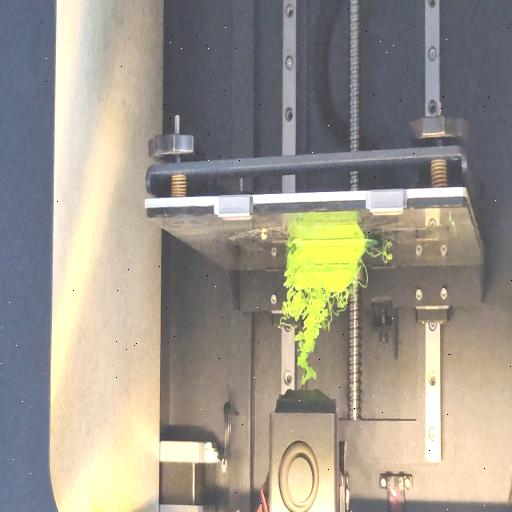spaghetti: (282, 283, 350, 385), (282, 232, 297, 283), (368, 244, 398, 266), (360, 262, 370, 294)
